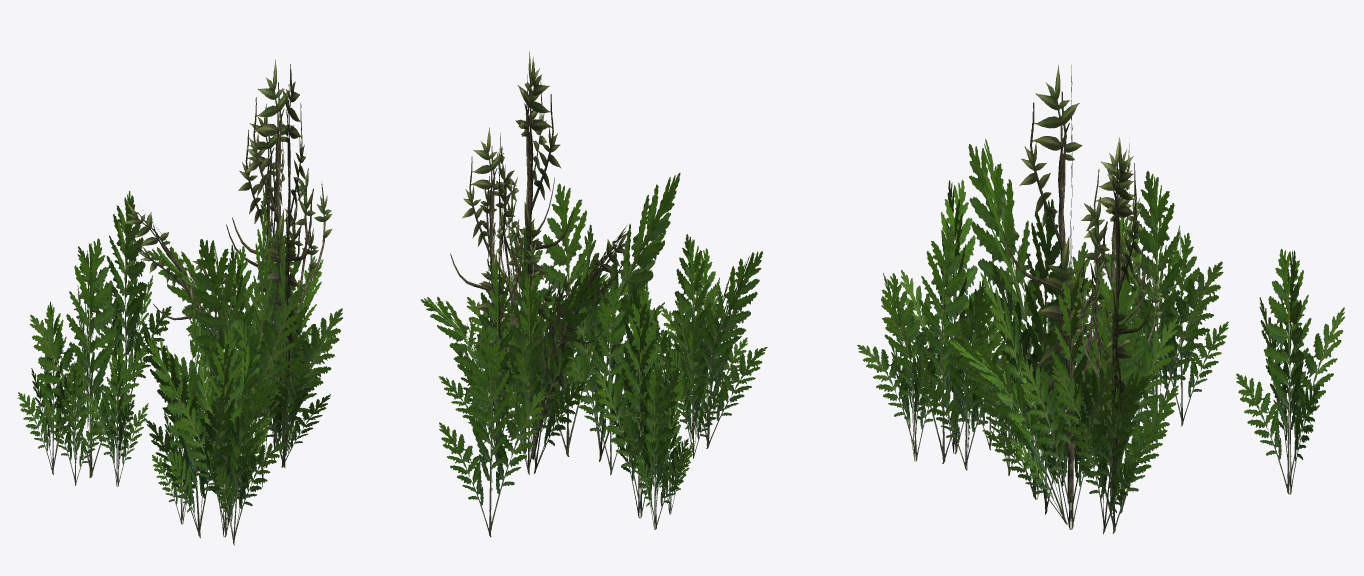
The model's file is S_Plant_Green031.FBX.
The picture shows the model from 3 angles, left to right: view 1: azimuth 30°, elevation 25°; view 2: azimuth 150°, elevation 25°; view 3: azimuth 270°, elevation 25°; orthographic projection. The views are drawn at different scales.
Visible parts, largest first — view 1: S_Plant_Green031; view 2: S_Plant_Green031; view 3: S_Plant_Green031.
Boxes of the visible parts, left/top/right/bottom form: S_Plant_Green031: left=18, top=59, right=342, bottom=545; S_Plant_Green031: left=420, top=51, right=767, bottom=537; S_Plant_Green031: left=857, top=65, right=1344, bottom=533.
Size of the model in its own units: 181 by 221 by 239.
